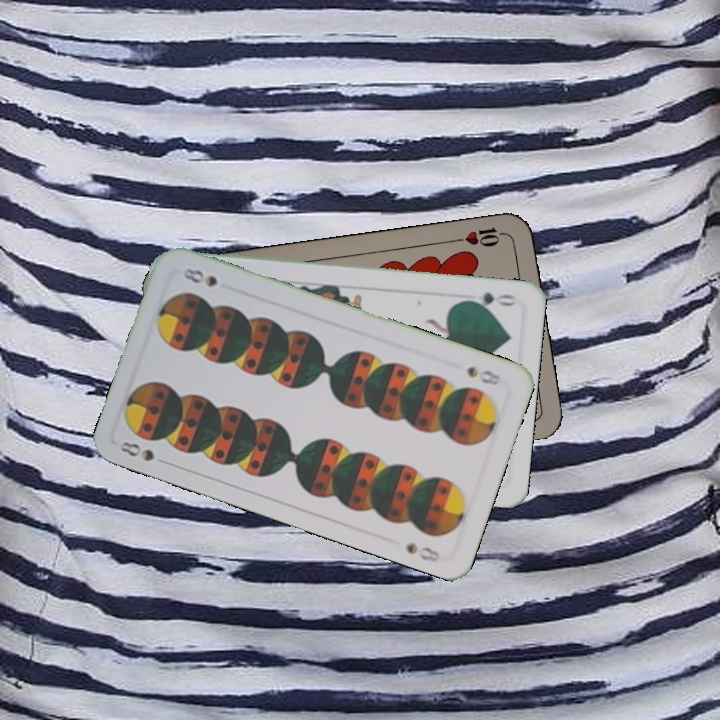GO: (460, 288, 519, 311)
H10: (451, 223, 511, 250)
S8: (115, 437, 173, 468), (463, 362, 504, 388)
